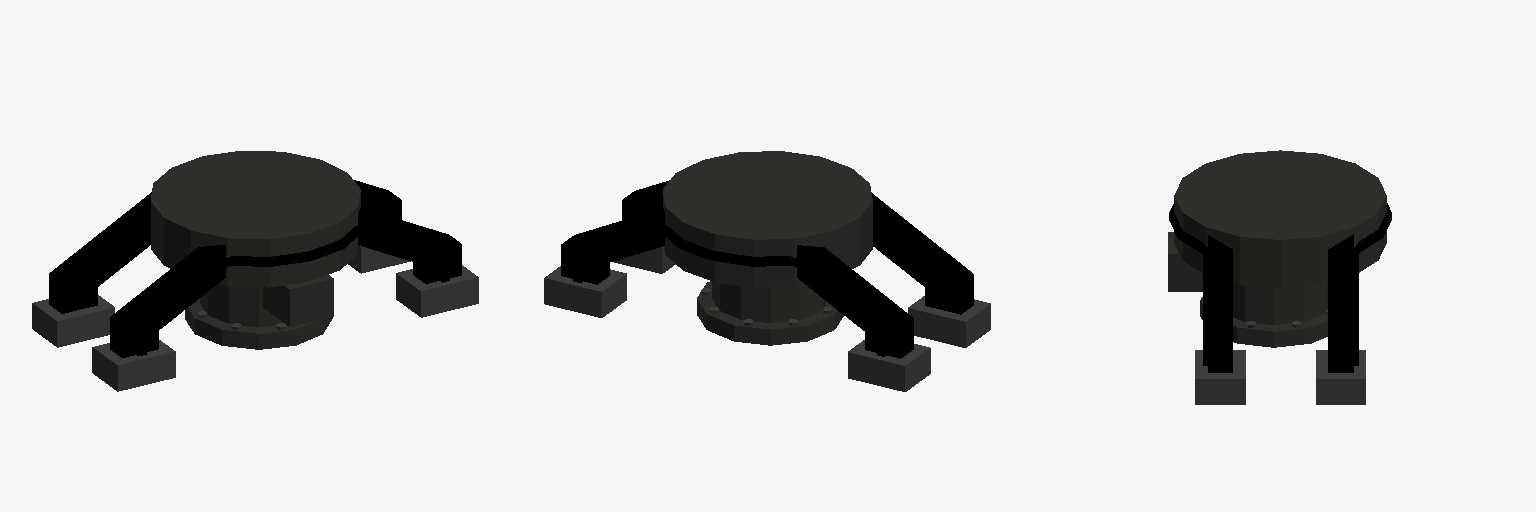
The model's file is well_pump.obj.
3 views of the same model, side by side, from view 1: azimuth 30°, elevation 25°; view 2: azimuth 150°, elevation 25°; view 3: azimuth 270°, elevation 25° (orthographic).
Parts seen in each view (by area): view 1: Cylinder_Cylinder.001, Cylinder.001_Cylinder.003, Cylinder.002_Cylinder; view 2: Cylinder_Cylinder.001, Cylinder.001_Cylinder.003, Cylinder.002_Cylinder; view 3: Cylinder_Cylinder.001, Cylinder.001_Cylinder.003, Cylinder.002_Cylinder.
Part boxes in pixels (bbox=[...]): Cylinder_Cylinder.001: bbox=[32, 151, 478, 391]; Cylinder.001_Cylinder.003: bbox=[137, 225, 449, 355]; Cylinder.002_Cylinder: bbox=[217, 226, 364, 266]; Cylinder_Cylinder.001: bbox=[544, 151, 990, 391]; Cylinder.001_Cylinder.003: bbox=[573, 226, 886, 356]; Cylinder.002_Cylinder: bbox=[660, 226, 803, 266]; Cylinder_Cylinder.001: bbox=[1168, 150, 1386, 404]; Cylinder.001_Cylinder.003: bbox=[1203, 246, 1358, 365]; Cylinder.002_Cylinder: bbox=[1169, 203, 1391, 255].
Bounding box in the file's own units: 3.52 × 1.13 × 1.89.